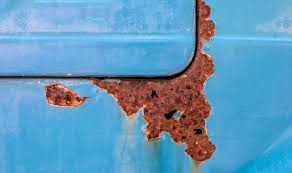rust: (96, 77, 217, 159), (195, 1, 217, 72), (40, 81, 84, 109)
